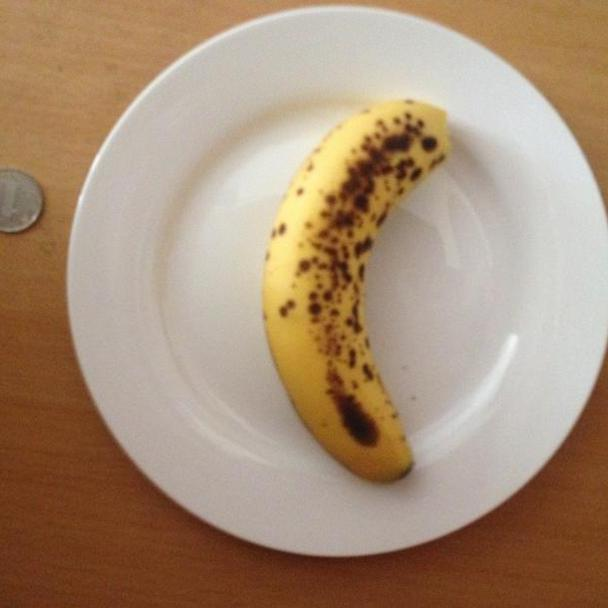banana: (269, 93, 453, 484)
